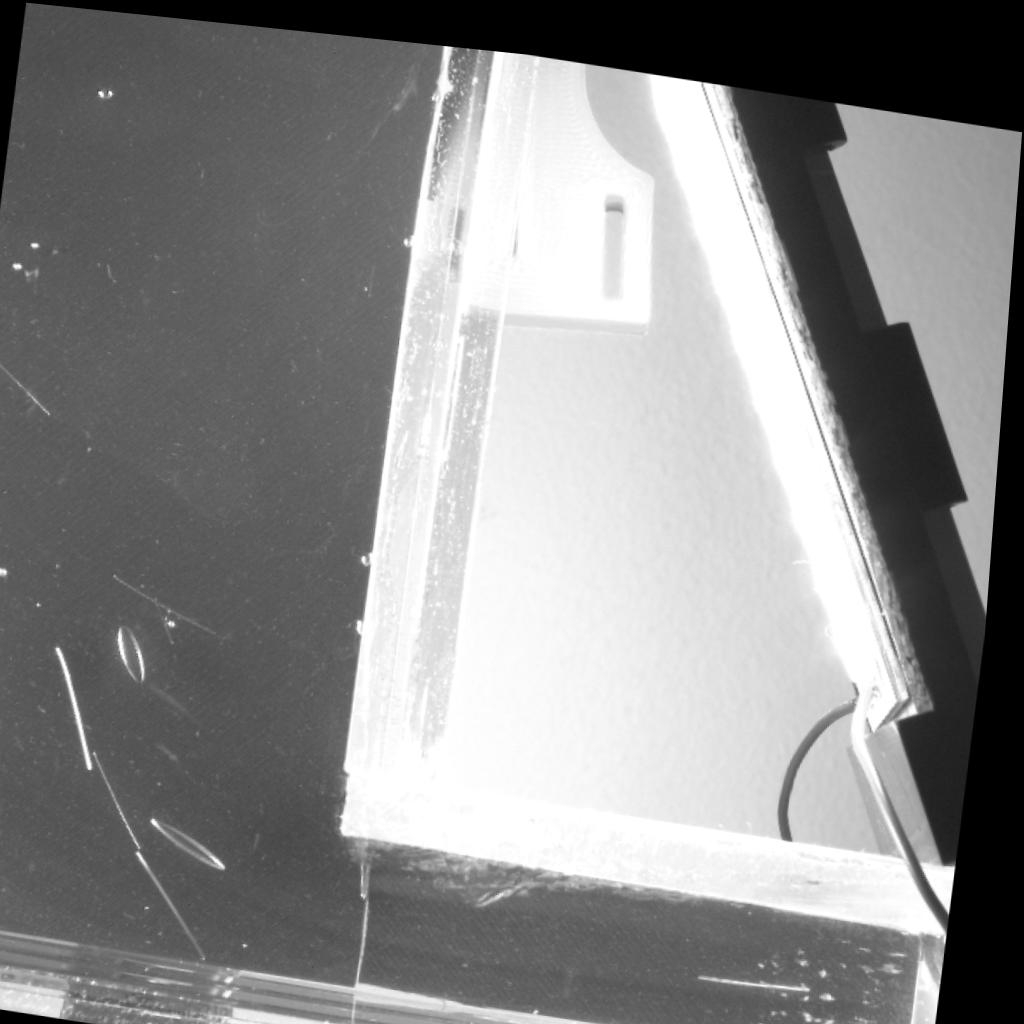Fiber: (144, 841, 222, 960), (116, 564, 227, 629), (63, 643, 108, 769), (99, 749, 154, 848), (0, 353, 59, 415), (711, 958, 828, 972)
